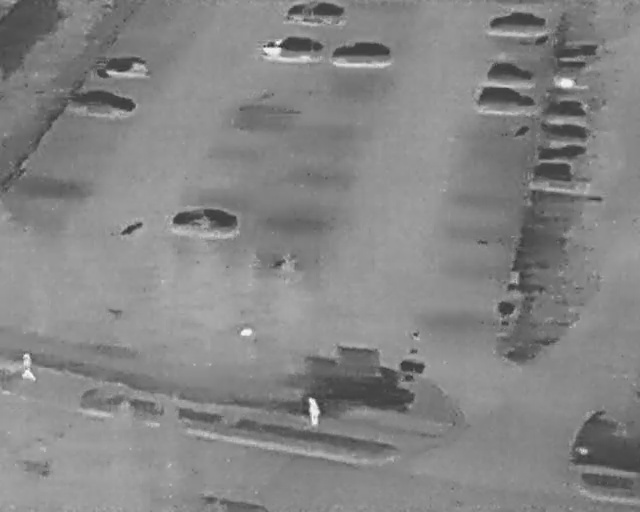Car: (61, 84, 139, 117), (169, 207, 240, 235), (329, 39, 395, 68), (476, 85, 540, 114), (260, 35, 325, 63), (485, 9, 549, 37), (283, 0, 347, 27), (484, 58, 538, 88), (94, 55, 153, 79), (529, 160, 582, 182), (537, 121, 592, 142), (541, 97, 592, 119), (534, 144, 591, 161), (553, 38, 603, 57), (554, 58, 595, 76)
Person: (306, 395, 322, 429), (20, 350, 35, 382)
